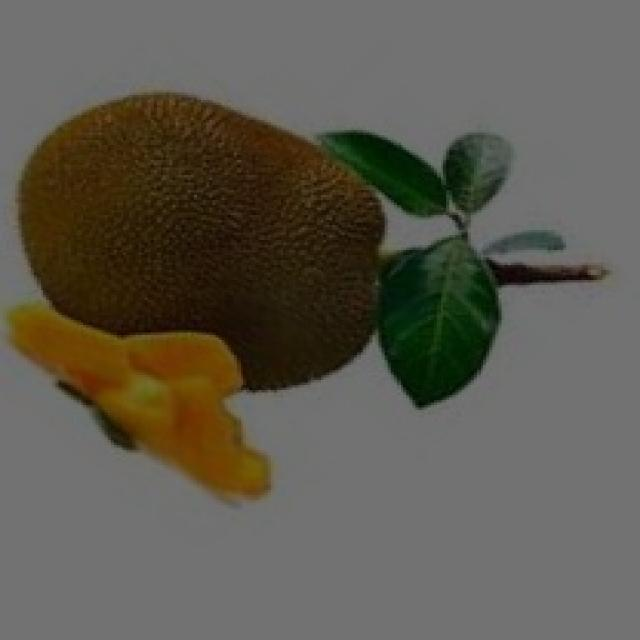Fruit: (0, 65, 418, 410)
